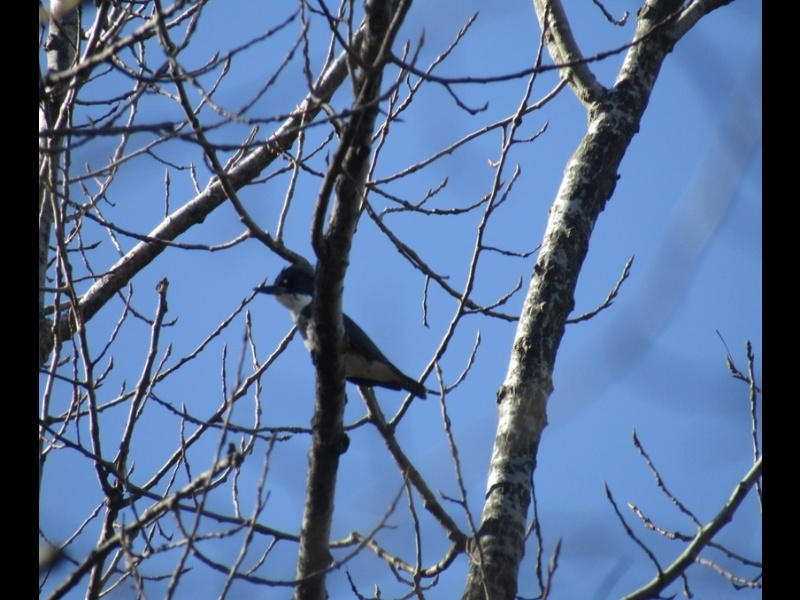kingfisher: (255, 259, 430, 403)
